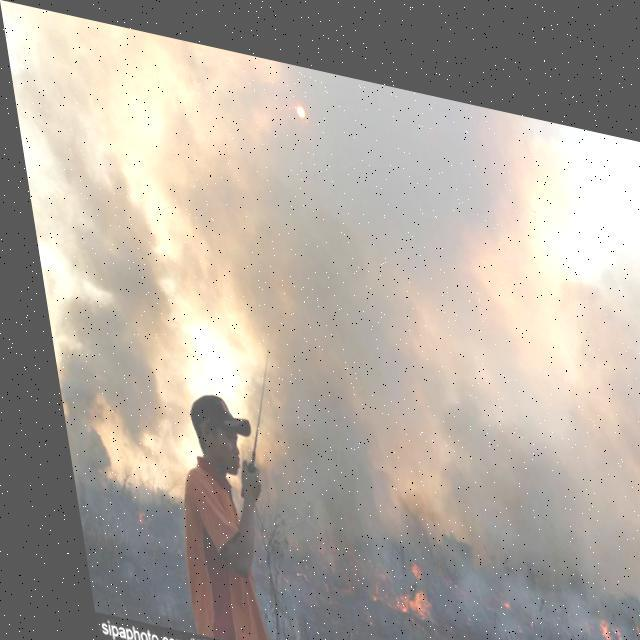Fire: (362, 536, 419, 614), (575, 590, 612, 622)
